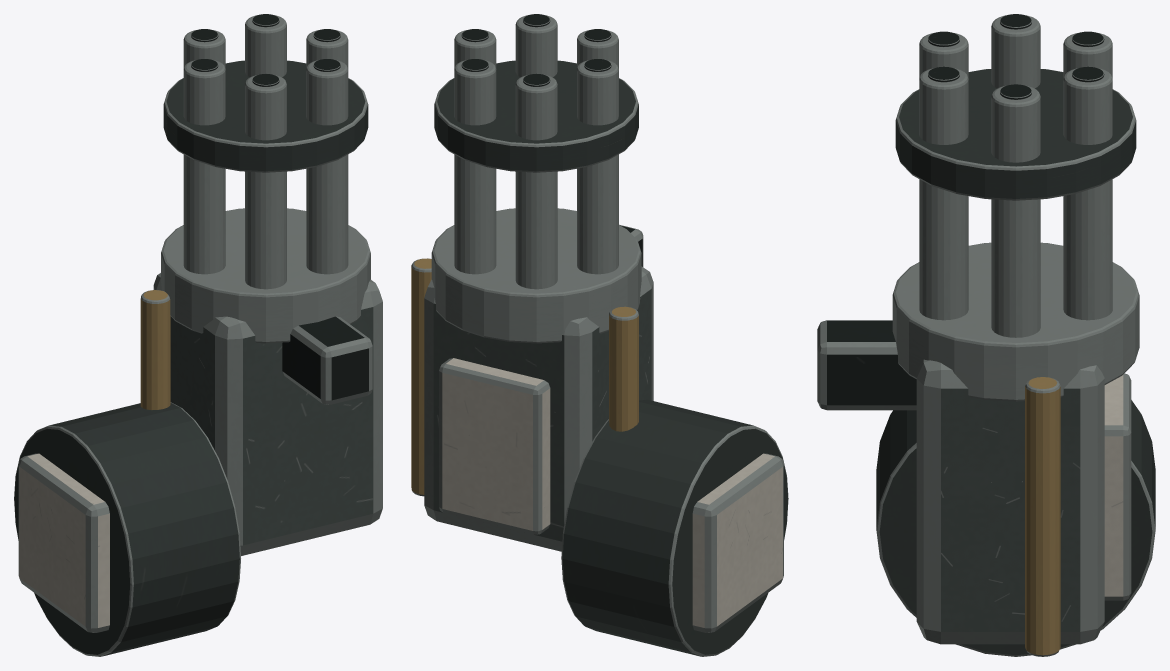
The model's file is rotary-t4.glb.
3 renders of one model, left to right at view 1: azimuth 30°, elevation 25°; view 2: azimuth 150°, elevation 25°; view 3: azimuth 270°, elevation 25°, orthographic. The views are drawn at different scales.
Parts seen in each view (by area): view 1: Ammunition drum, Rotary receiver, Rotating barrel carrier, Feed drum casing, Barrel front clamp, Rotary steel barrel 4, Rotary steel barrel 5, Rotary steel barrel 3, Support foregrip, Receiver recoil rail, Rotary steel barrel 1, Rotary steel barrel 0 (+1 smaller); view 2: Ammunition drum, Rotary receiver, Recessed ammunition cover, Rotating barrel carrier, Feed drum casing, Barrel front clamp, Rotary steel barrel 2, Rotary steel barrel 1, Rotary steel barrel 3, Receiver recoil rail, Receiver recoil rail.001, Rotary steel barrel 5 (+2 smaller); view 3: Rotary receiver, Rotating barrel carrier, Barrel front clamp, Ammunition drum, Rotary steel barrel 0, Receiver recoil rail.001, Rotary steel barrel 5, Rotary steel barrel 1, Support foregrip, Recessed ammunition cover, Rotary steel barrel 3, Rotary steel barrel 2 (+1 smaller).
Boxes of the visible parts, x1=… form: Ammunition drum: x1=14, y1=402, x2=240, y2=656; Rotary receiver: x1=153, y1=273, x2=382, y2=555; Rotating barrel carrier: x1=161, y1=208, x2=370, y2=343; Feed drum casing: x1=18, y1=453, x2=109, y2=632; Barrel front clamp: x1=163, y1=60, x2=368, y2=172; Rotary steel barrel 4: x1=245, y1=75, x2=286, y2=289; Rotary steel barrel 5: x1=306, y1=60, x2=348, y2=274; Rotary steel barrel 3: x1=183, y1=60, x2=225, y2=274; Support foregrip: x1=282, y1=316, x2=372, y2=404; Receiver recoil rail: x1=140, y1=290, x2=170, y2=409; Rotary steel barrel 1: x1=245, y1=15, x2=286, y2=77; Rotary steel barrel 0: x1=306, y1=30, x2=348, y2=68; Ammunition drum: x1=561, y1=399, x2=788, y2=656; Rotary receiver: x1=424, y1=266, x2=653, y2=551; Recessed ammunition cover: x1=439, y1=358, x2=550, y2=534; Rotating barrel carrier: x1=431, y1=208, x2=641, y2=343; Feed drum casing: x1=692, y1=453, x2=783, y2=632; Barrel front clamp: x1=434, y1=60, x2=638, y2=172; Rotary steel barrel 2: x1=515, y1=75, x2=557, y2=289; Rotary steel barrel 1: x1=454, y1=60, x2=496, y2=274; Rotary steel barrel 3: x1=577, y1=60, x2=618, y2=274; Receiver recoil rail: x1=609, y1=306, x2=638, y2=431; Receiver recoil rail.001: x1=411, y1=258, x2=431, y2=496; Rotary steel barrel 5: x1=515, y1=15, x2=557, y2=77; Rotary receiver: x1=916, y1=359, x2=1104, y2=644; Rotating barrel carrier: x1=892, y1=242, x2=1139, y2=401; Barrel front clamp: x1=895, y1=69, x2=1136, y2=200; Ammunition drum: x1=876, y1=400, x2=1155, y2=656; Rotary steel barrel 0: x1=991, y1=85, x2=1040, y2=337; Receiver recoil rail.001: x1=1025, y1=377, x2=1060, y2=656; Rotary steel barrel 5: x1=919, y1=68, x2=968, y2=320; Rotary steel barrel 1: x1=1063, y1=68, x2=1112, y2=320; Support foregrip: x1=817, y1=320, x2=916, y2=410; Recessed ammunition cover: x1=1104, y1=373, x2=1131, y2=600; Rotary steel barrel 3: x1=991, y1=15, x2=1040, y2=88; Rotary steel barrel 2: x1=1063, y1=32, x2=1112, y2=78.
Size of the model in its own units: 0.823 by 1.34 by 0.63.
Materials: 6 (6 with a texture image).
